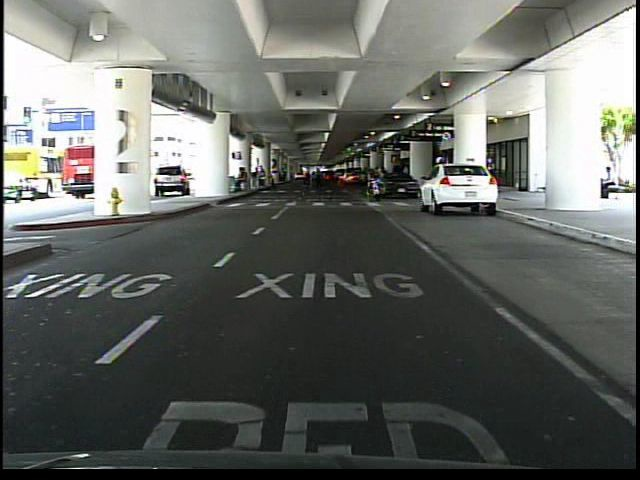person: (593, 164, 621, 201), (431, 152, 448, 209)
